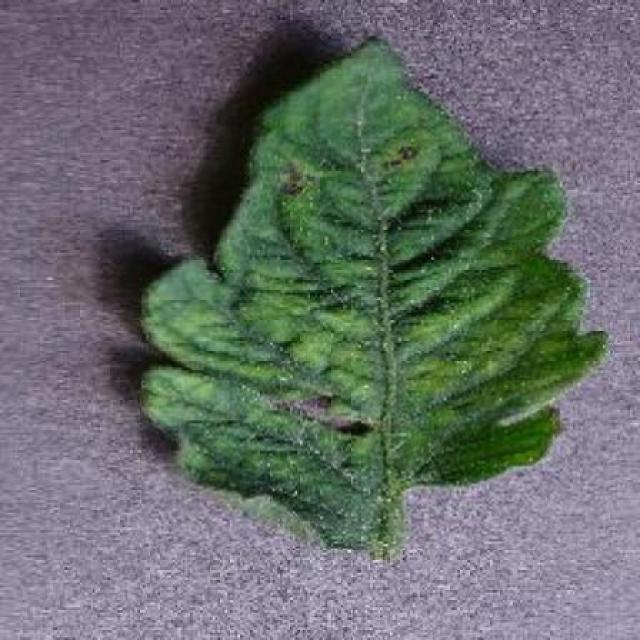Mosaic Virus: (142, 31, 608, 548)
